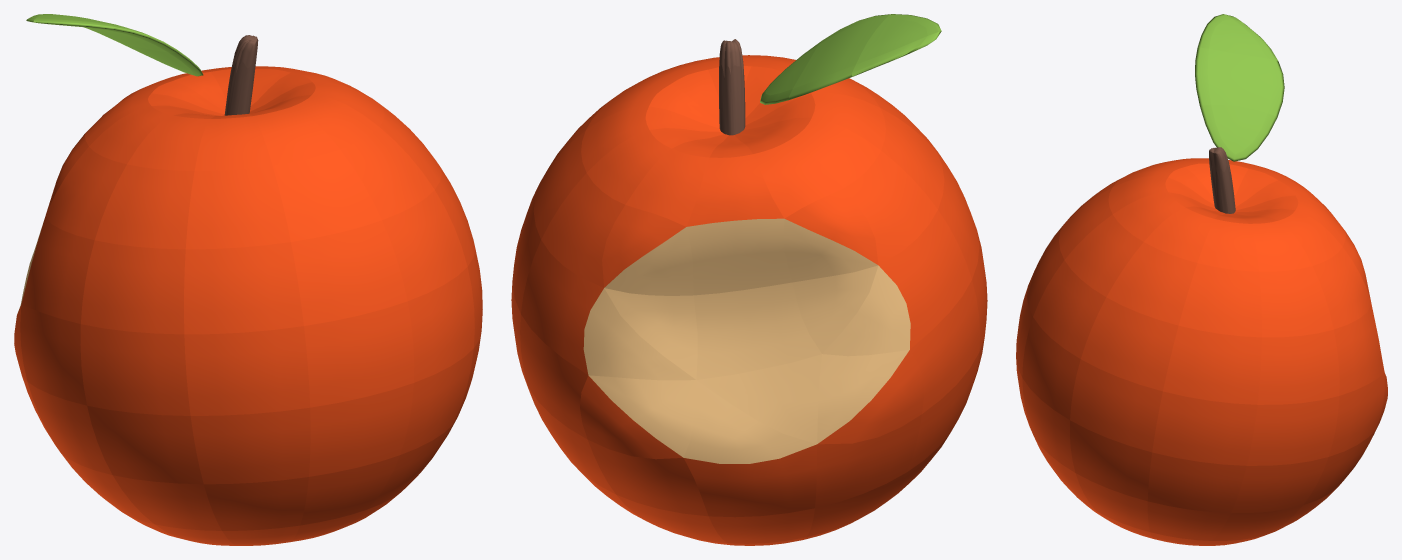
File: 532_apple3.fbx
The picture shows the model from 3 angles, left to right: view 1: azimuth 30°, elevation 25°; view 2: azimuth 150°, elevation 25°; view 3: azimuth 270°, elevation 25°; orthographic projection. The views are drawn at different scales.
Parts seen in each view (by area): view 1: group363168450; view 2: group363168450; view 3: group363168450.
Boxes of the visible parts, x1,y1,x2,y2 form: group363168450: (14,14,482,545); group363168450: (511,14,987,545); group363168450: (1016,14,1387,545).
Bounding box in the file's own units: 32.91 × 41.55 × 32.53.
